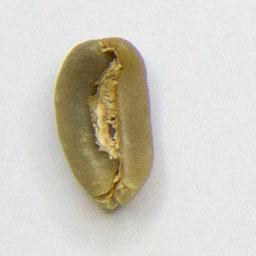longberry: (50, 33, 159, 214)
